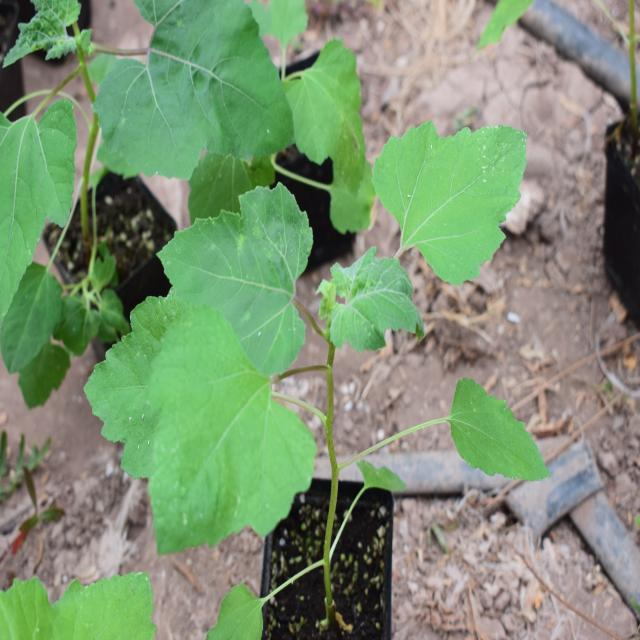cocklebur: (31, 92, 546, 496)
